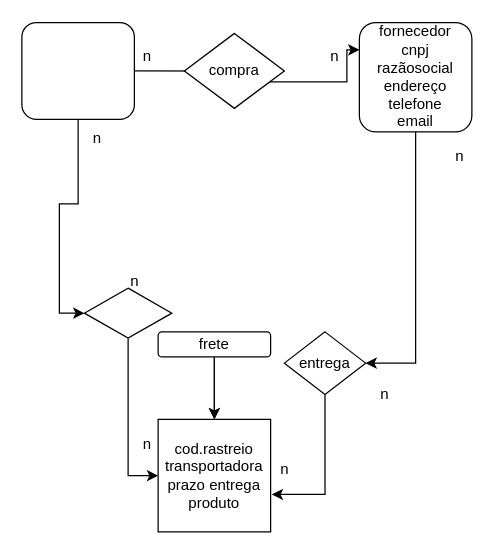
This 500x554 diagram has some shape labels left out. The shapes that lost their labels are listed below. From the top down, each one's centre as x and y in pixels, then its label:
At pixel 77 70: "cliente nome cpf endereço telefone".
At pixel 127 312: "receber".
